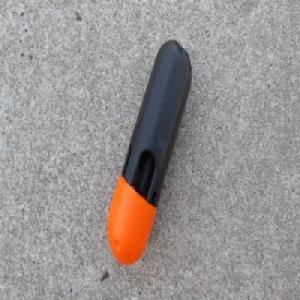PlasticPart: (105, 37, 193, 268)
